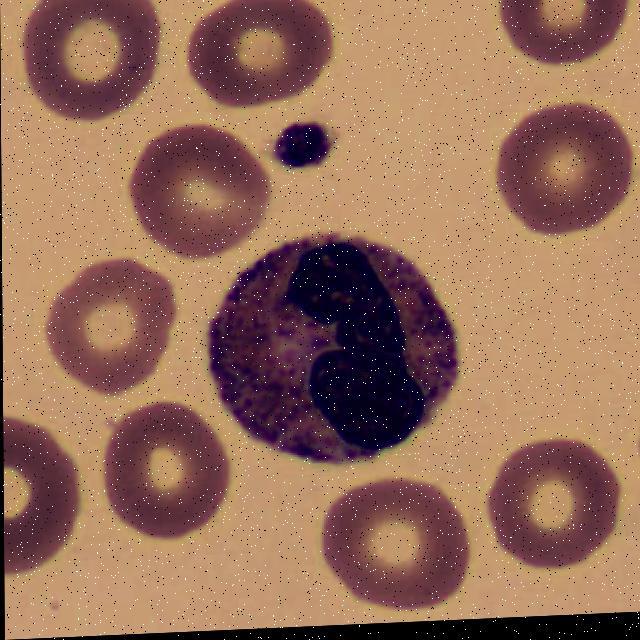neutrophil: (203, 227, 460, 472)
platelets: (272, 108, 340, 184)
rbc: (490, 93, 634, 252), (47, 243, 190, 398), (481, 425, 626, 577), (105, 398, 244, 548), (134, 113, 272, 262), (314, 473, 467, 607), (17, 0, 167, 127), (176, 0, 340, 112), (3, 408, 85, 577), (496, 0, 640, 69), (630, 378, 640, 508)
